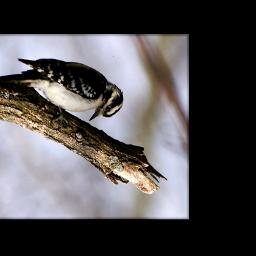Woodpecker: (0, 52, 132, 124)
